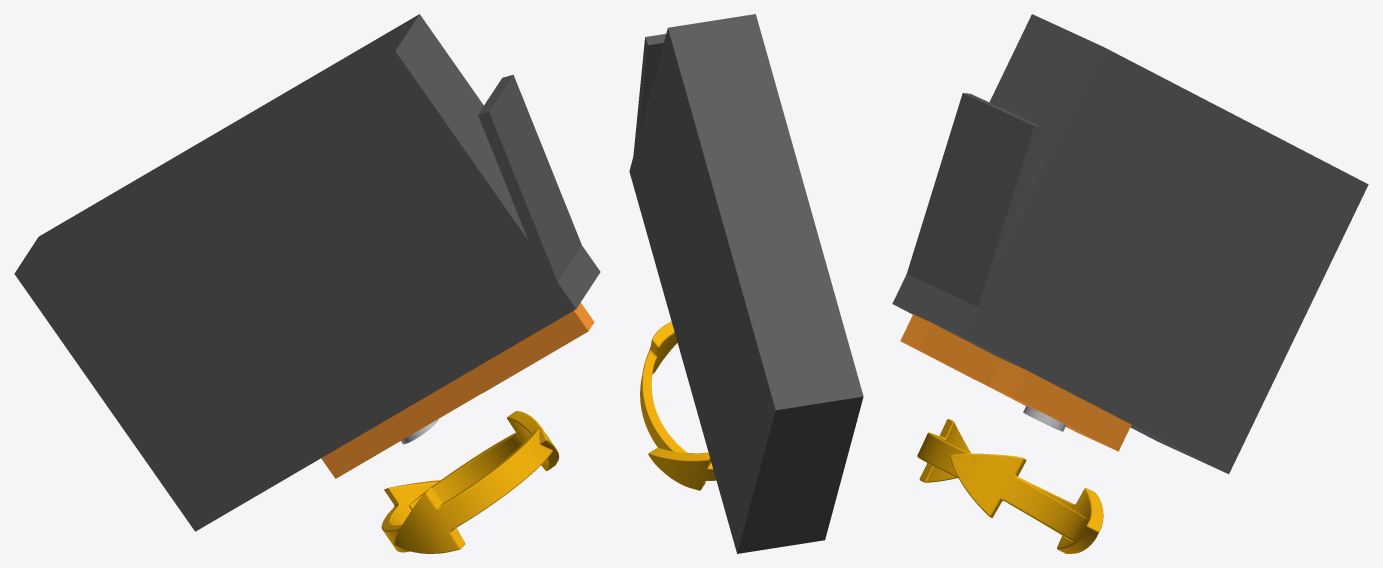
The model's file is cartridge_twist.fbx.
3 views of the same model, side by side, from view 1: azimuth 30°, elevation 25°; view 2: azimuth 150°, elevation 25°; view 3: azimuth 270°, elevation 25° (orthographic). The views are drawn at different scales.
Parts seen in each view (by area): view 1: node_id242, node_id245, node_id212, node_id243, node_id244, node_id214, node_id210; view 2: node_id242, node_id214, node_id210, node_id245; view 3: node_id242, node_id245, node_id214, node_id243, node_id244, node_id212, node_id210.
Boxes of the visible parts, left/top/right/bottom form: node_id242: left=14, top=14, right=600, bottom=531; node_id245: left=478, top=74, right=581, bottom=310; node_id212: left=394, top=429, right=552, bottom=553; node_id243: left=321, top=372, right=482, bottom=478; node_id244: left=468, top=302, right=594, bottom=392; node_id214: left=409, top=411, right=559, bottom=509; node_id210: left=381, top=480, right=440, bottom=552; node_id242: left=629, top=14, right=863, bottom=553; node_id214: left=640, top=321, right=687, bottom=452; node_id210: left=648, top=448, right=716, bottom=490; node_id245: left=633, top=34, right=665, bottom=165; node_id242: left=892, top=14, right=1368, bottom=474; node_id245: left=907, top=93, right=1041, bottom=309; node_id214: left=950, top=453, right=1086, bottom=541; node_id243: left=983, top=358, right=1131, bottom=451; node_id244: left=900, top=314, right=1001, bottom=387; node_id212: left=917, top=419, right=977, bottom=482; node_id210: left=961, top=449, right=1103, bottom=553.
Size of the model in its own units: 4.63 by 5.43 by 4.53.
Materials: 8 (8 with a texture image).
